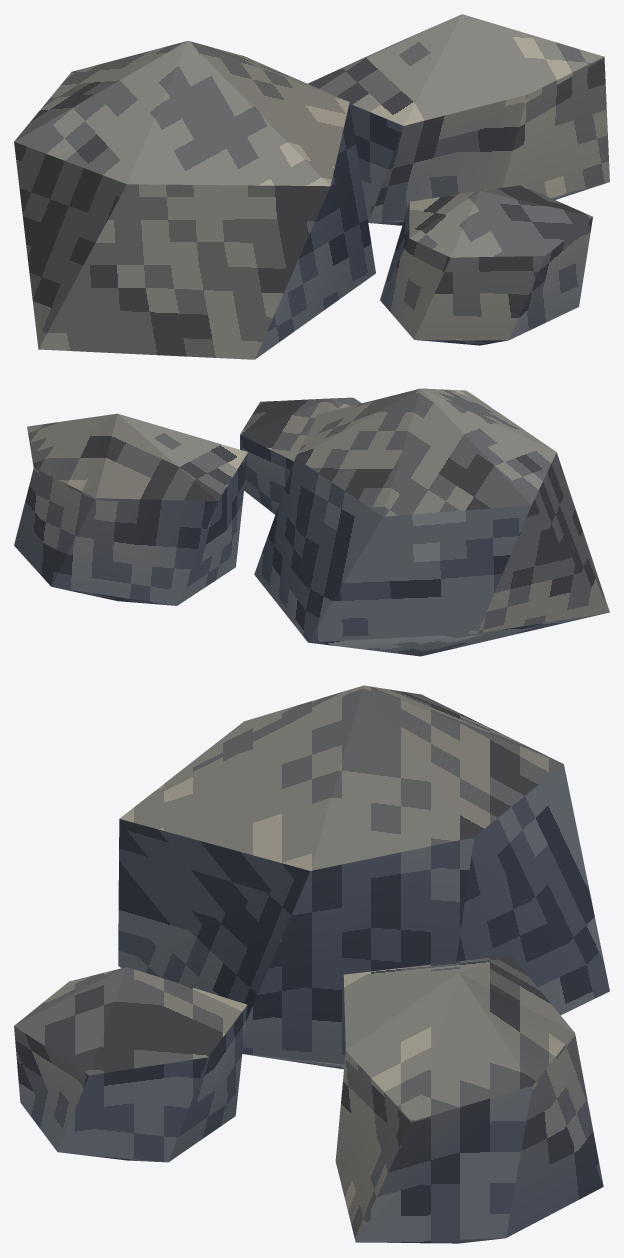
The model's file is mnat.rock__cluster.glb.
The picture shows the model from 3 angles, top to bottom: view 1: azimuth 30°, elevation 25°; view 2: azimuth 150°, elevation 25°; view 3: azimuth 270°, elevation 25°; orthographic projection. The views are drawn at different scales.
Visible parts, largest first — view 1: kit_rock; view 2: kit_rock; view 3: kit_rock.
Boxes of the visible parts, x1,y1,x2,y2 form: kit_rock: [14, 14, 609, 359]; kit_rock: [14, 388, 609, 656]; kit_rock: [14, 685, 609, 1243].
Bounding box in the file's own units: 1.89 × 0.9 × 1.26.
1 material, 1 textured.
